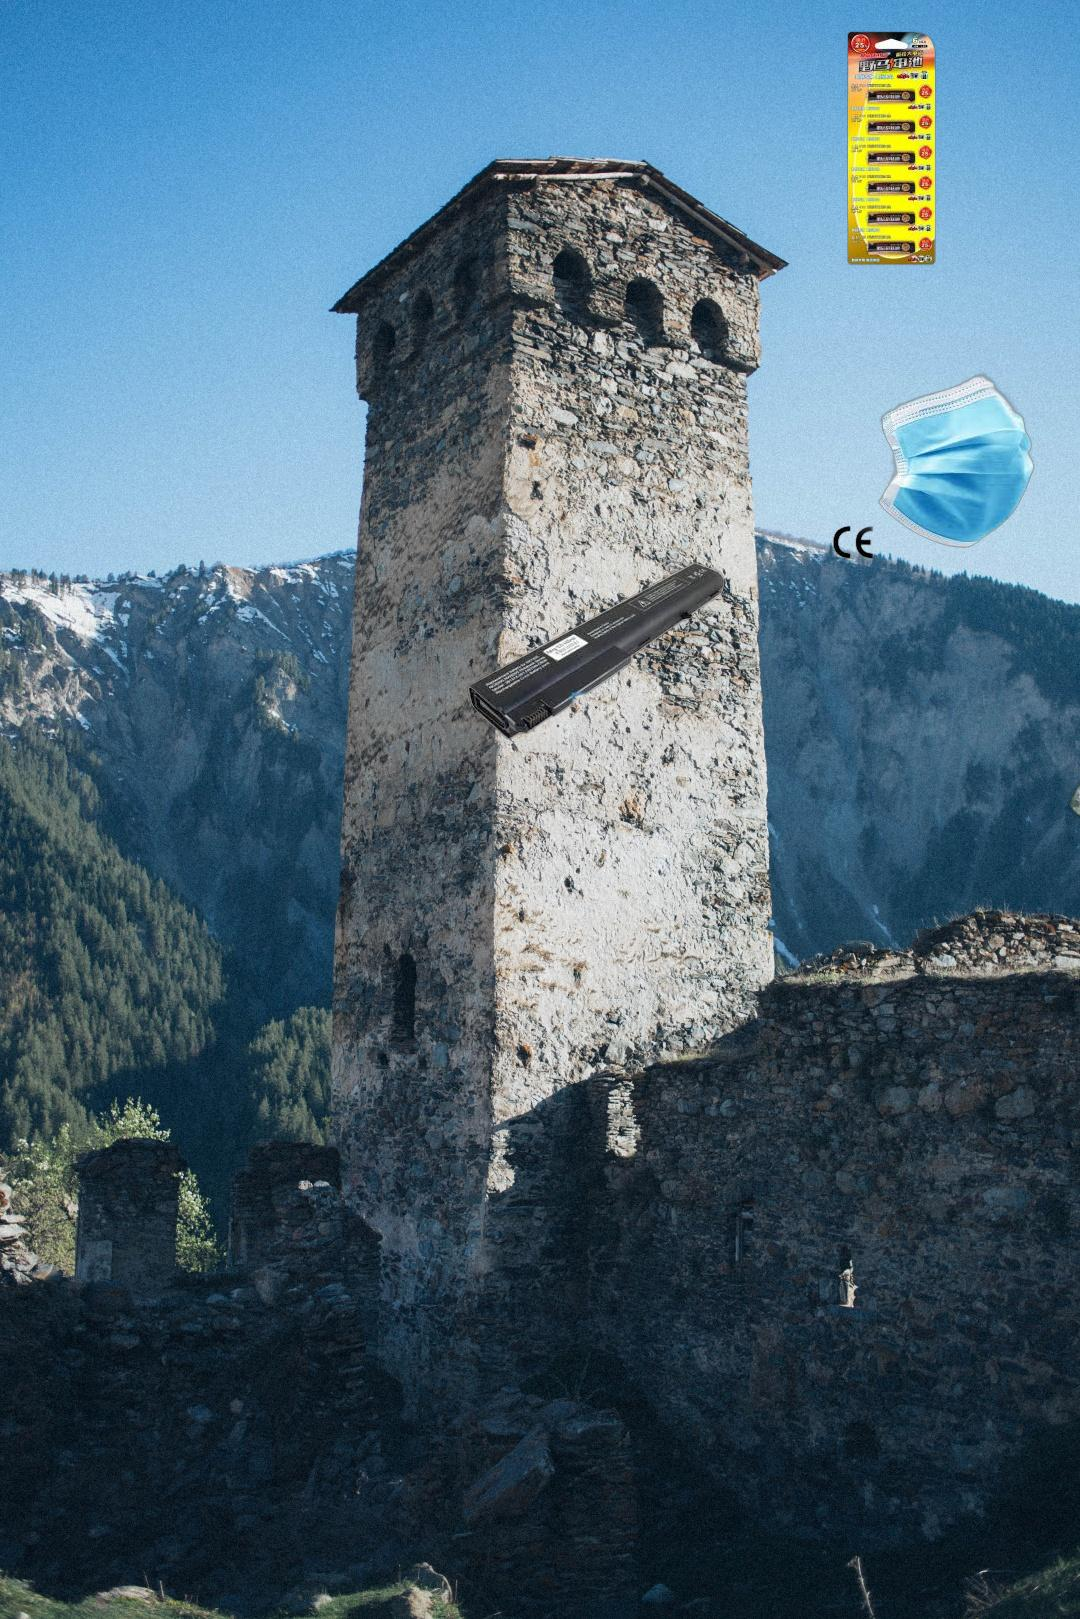battery: (465, 560, 725, 747), (845, 29, 939, 268)
plastic-bottles: (770, 767, 1080, 1169)
trash: (830, 369, 1037, 561)
